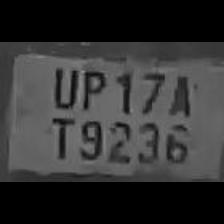1: (107, 64, 134, 116)
2: (103, 117, 133, 165)
3: (132, 117, 160, 165)
6: (160, 121, 190, 165)
7: (135, 66, 163, 116)
9: (74, 114, 104, 160)
A: (164, 69, 192, 117)
P: (77, 63, 107, 111)
T: (45, 112, 75, 160)
U: (48, 63, 78, 109)
